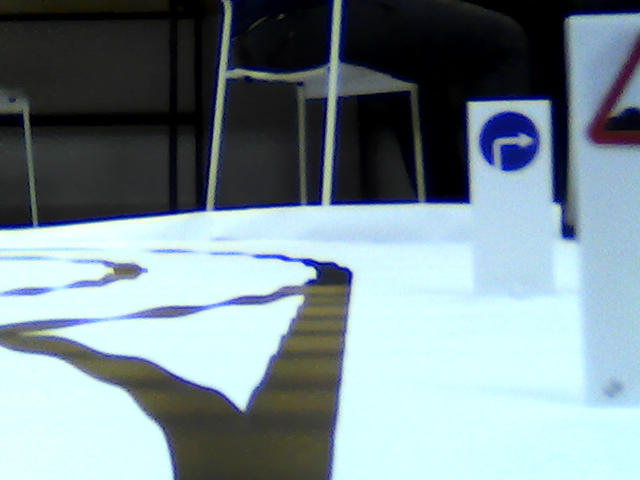Right: (476, 108, 542, 173)
